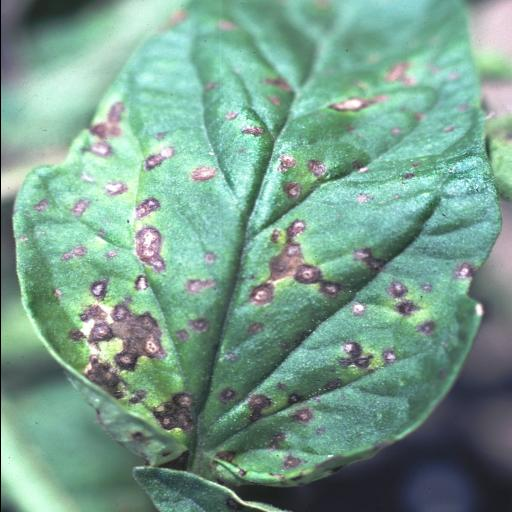disease_tomato: (12, 0, 502, 488)
